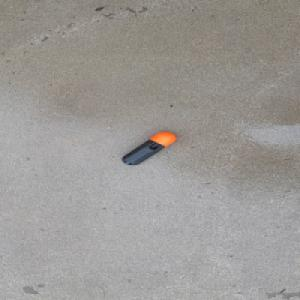PlasticPart: (120, 131, 177, 165)
